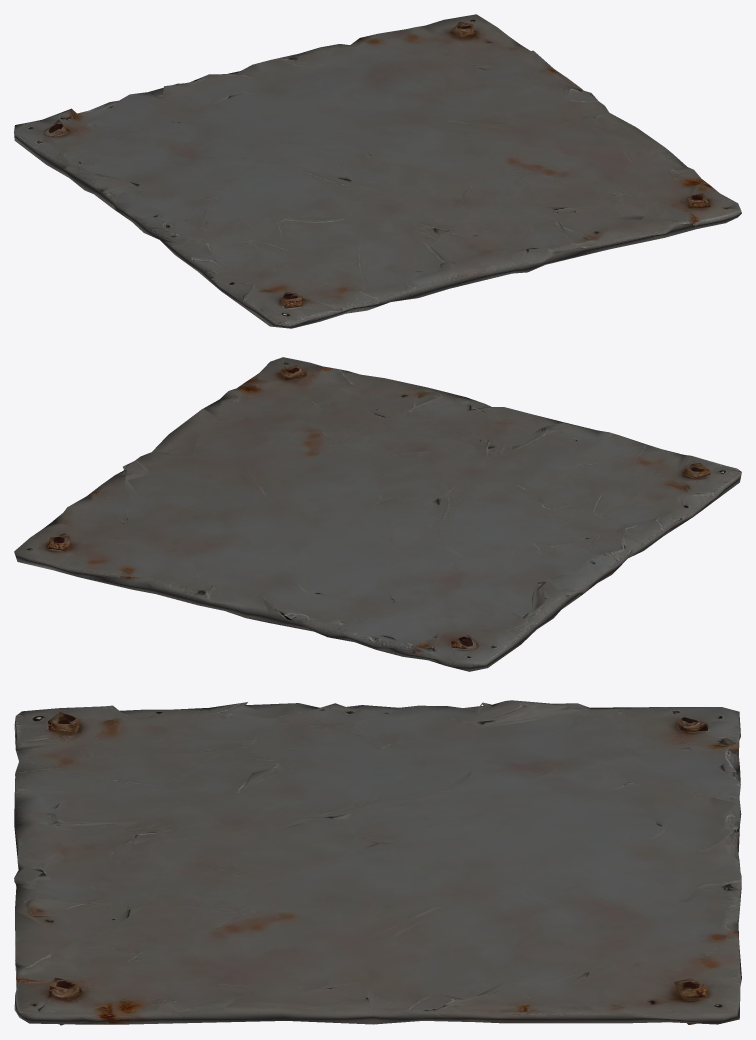
File: steel_plate.685fda7c61.glb
3 views of the same model, one above another, from view 1: azimuth 30°, elevation 25°; view 2: azimuth 150°, elevation 25°; view 3: azimuth 270°, elevation 25° (orthographic). The views are drawn at different scales.
Visible parts, largest first — view 1: steel_plate; view 2: steel_plate; view 3: steel_plate.
Boxes of the visible parts, <box> form: steel_plate: <box>14,14,741,328</box>; steel_plate: <box>14,357,741,671</box>; steel_plate: <box>14,700,741,1025</box>.
Bounding box in the file's own units: 0.5 × 0.0309 × 0.4975.
Materials: 1 (1 with a texture image).
